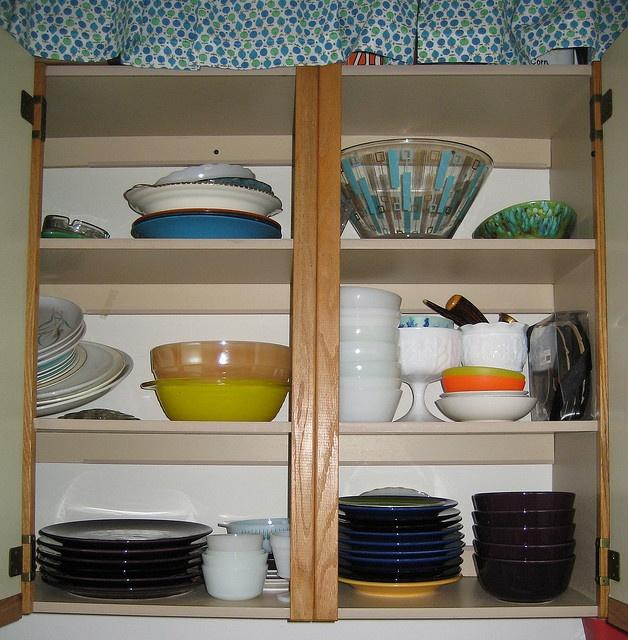Rak: (17, 60, 314, 619), (315, 62, 608, 618)
